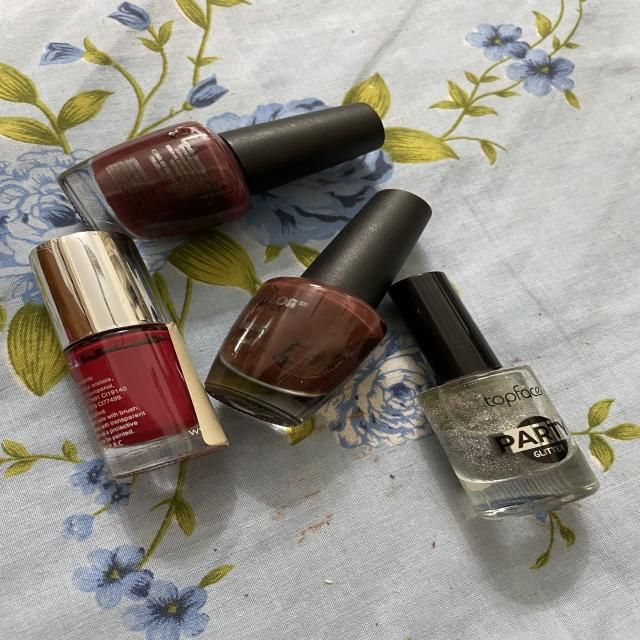nail polish: (197, 183, 445, 446), (378, 264, 612, 528), (1, 215, 228, 485), (54, 78, 390, 238)
